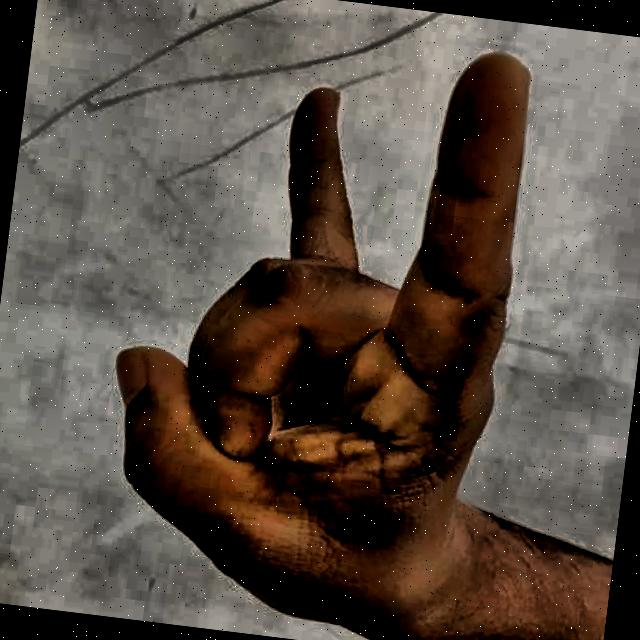Cha: (66, 0, 582, 640)
